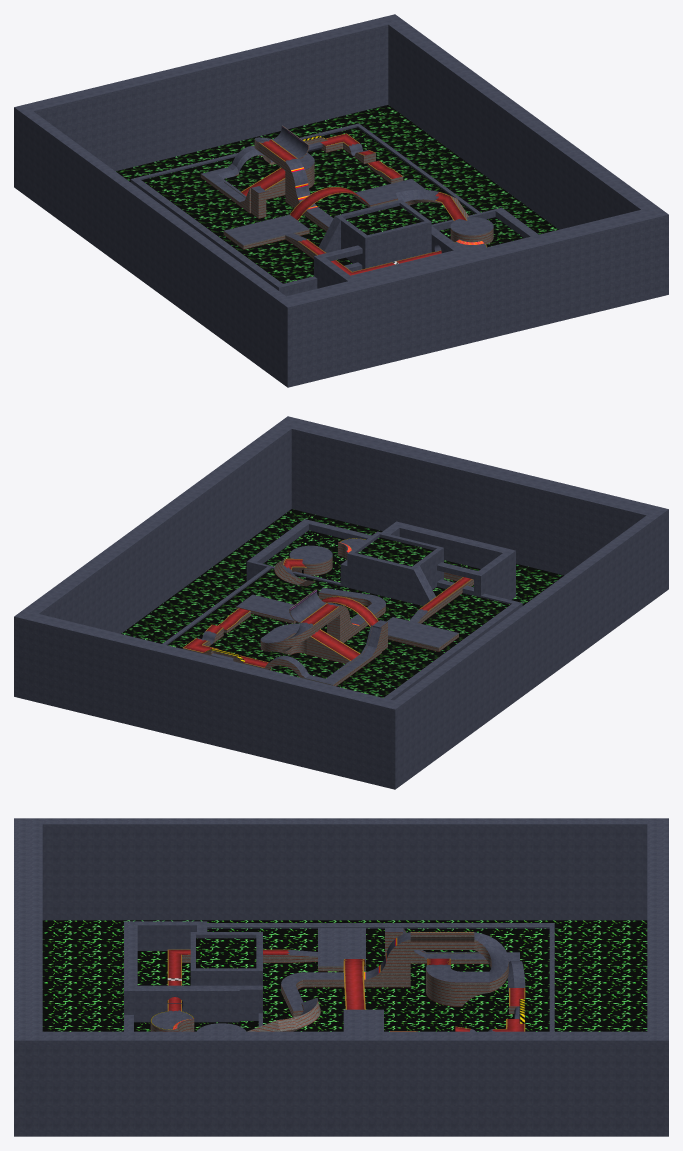
3 renders of one model, top to bottom at view 1: azimuth 30°, elevation 25°; view 2: azimuth 150°, elevation 25°; view 3: azimuth 270°, elevation 25°, orthographic. The views are drawn at different scales.
Parts seen in each view (by area): view 1: Race-SKP--Wall1.002, Race-SKP--Lava.001, Race-SKP--Offroad.001, Race-SKP--Road2.001, Race-SKP--Wall.005, Race-SKP--Road.004; view 2: Race-SKP--Wall1.002, Race-SKP--Lava.001, Race-SKP--Offroad.001, Race-SKP--Road2.001, Race-SKP--Wall.005, Race-SKP--Road.004; view 3: Race-SKP--Wall1.002, Race-SKP--Lava.001, Race-SKP--Offroad.001, Race-SKP--Road2.001, Race-SKP--Wall.005, Race-SKP--Road.004.
Boxes of the visible parts, box(x1,y1,x2,y2) form: Race-SKP--Wall1.002: box(14, 24, 668, 387); Race-SKP--Lava.001: box(116, 105, 558, 283); Race-SKP--Offroad.001: box(14, 14, 668, 307); Race-SKP--Road2.001: box(201, 128, 493, 281); Race-SKP--Wall.005: box(200, 125, 493, 259); Race-SKP--Road.004: box(241, 133, 466, 275); Race-SKP--Wall1.002: box(14, 429, 668, 789); Race-SKP--Lava.001: box(121, 509, 563, 697); Race-SKP--Offroad.001: box(14, 416, 668, 709); Race-SKP--Road2.001: box(197, 521, 515, 684); Race-SKP--Wall.005: box(182, 543, 473, 686); Race-SKP--Road.004: box(183, 558, 471, 667); Race-SKP--Wall1.002: box(14, 824, 668, 1136); Race-SKP--Lava.001: box(42, 920, 647, 1031); Race-SKP--Offroad.001: box(14, 818, 668, 1040); Race-SKP--Road2.001: box(124, 921, 525, 1031); Race-SKP--Wall.005: box(150, 928, 517, 1031); Race-SKP--Road.004: box(167, 932, 525, 1031).
Bounding box in the file's own units: 134290 × 26976 × 167076.
Materials: 24 (24 with a texture image).
